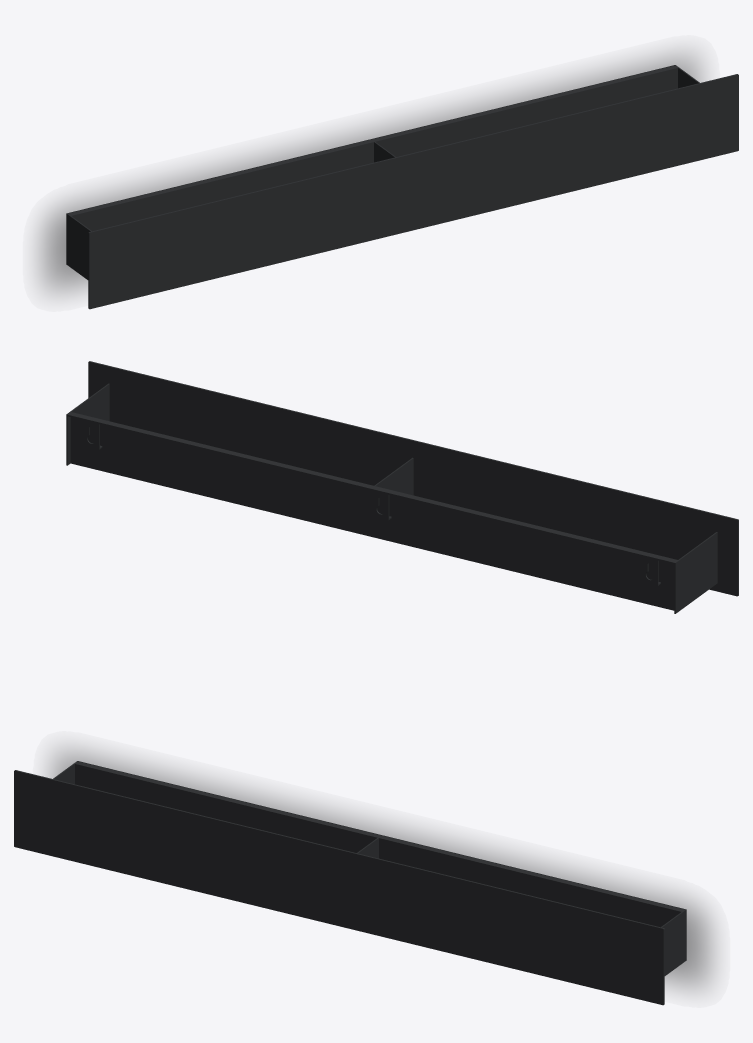
The model's file is skyline-mono.67a0b3661c.ar.glb.
3 views of the same model, one above another, from view 1: azimuth 30°, elevation 25°; view 2: azimuth 150°, elevation 25°; view 3: azimuth 330°, elevation 25° (orthographic).
Visible parts, largest first — view 1: NAUO1, object 2; view 2: NAUO1; view 3: NAUO1, object 2.
Part boxes in pixels (<box>): NAUO1: <box>66,65,738,309</box>; object 2: <box>38,53,703,293</box>; NAUO1: <box>66,361,738,613</box>; NAUO1: <box>14,761,686,1005</box>; object 2: <box>49,749,714,989</box>.
Bounding box in the file's own units: 0.88 × 0.17 × 0.092.
Materials: 2 (1 with a texture image).
